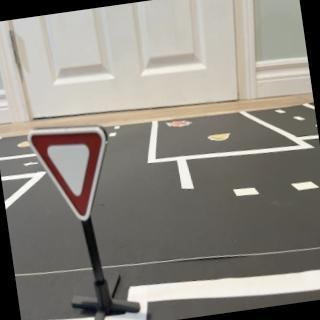road_oneway: (22, 159, 41, 170)
sign_yield: (27, 121, 119, 229)
